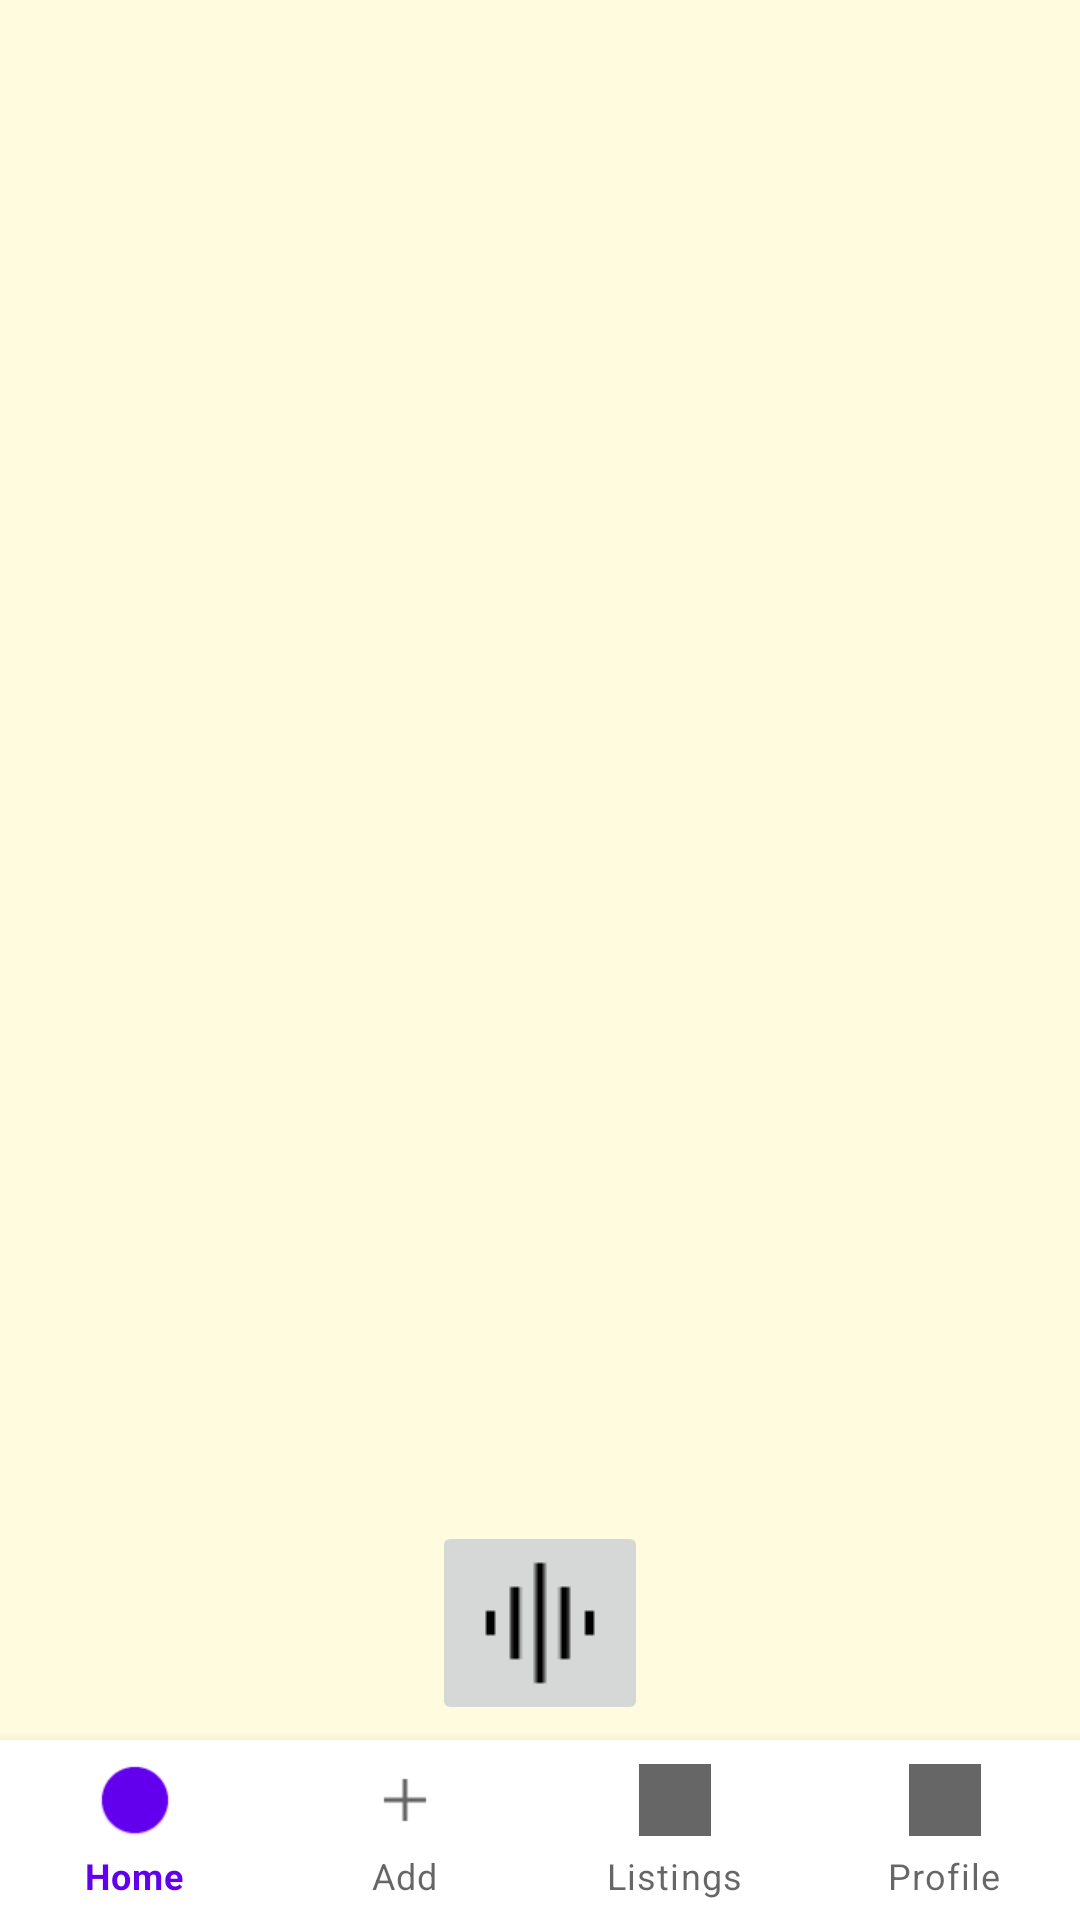

Where icons sit on this 1080x1920 app screen, as box(x1, y1, x2, y2):
voice: box(444, 1539, 636, 1707)
